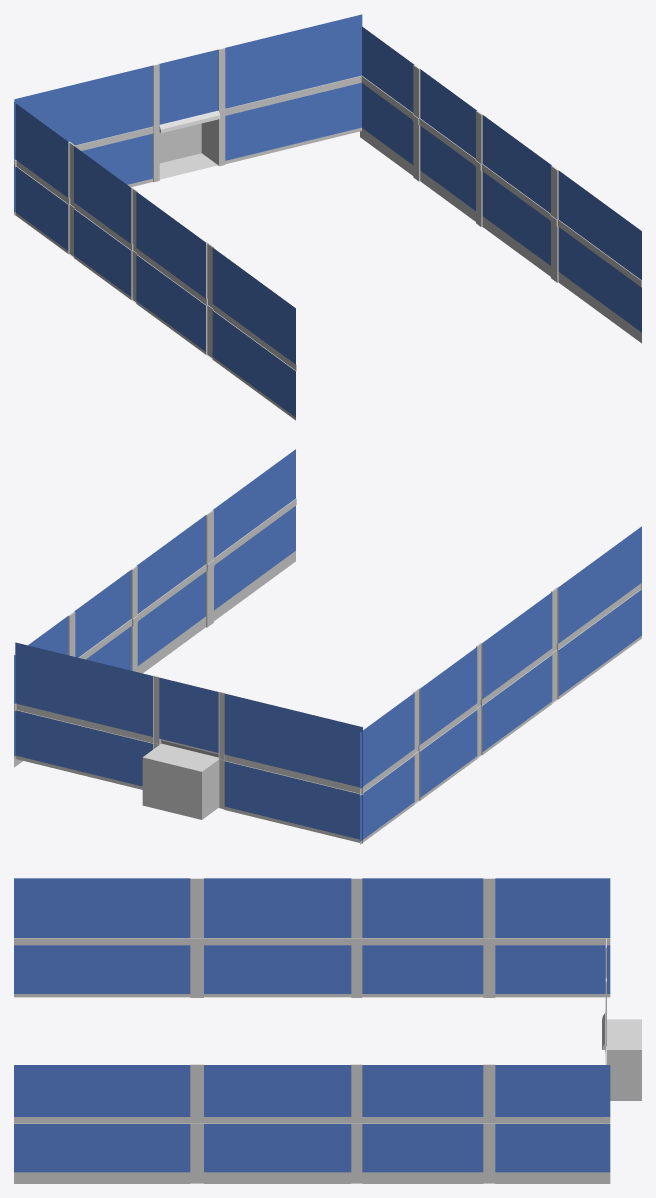
The model's file is Garagem.fbx.
The picture shows the model from 3 angles, top to bottom: view 1: azimuth 30°, elevation 25°; view 2: azimuth 150°, elevation 25°; view 3: azimuth 270°, elevation 25°; orthographic projection. The views are drawn at different scales.
Visible parts, largest first — view 1: Plane.001, Plane.002, Plane.003; view 2: Plane.001, Plane.002, Plane.003; view 3: Plane.002, Plane.003, Plane.001.
Boxes of the visible parts, x1=… form: Plane.001: x1=14, y1=14, x2=362, y2=215; Plane.002: x1=14, y1=102, x2=296, y2=420; Plane.003: x1=360, y1=26, x2=641, y2=343; Plane.001: x1=15, y1=642, x2=363, y2=843; Plane.002: x1=359, y1=526, x2=641, y2=844; Plane.003: x1=14, y1=449, x2=296, y2=767; Plane.002: x1=14, y1=878, x2=610, y2=997; Plane.003: x1=14, y1=1064, x2=610, y2=1183; Plane.001: x1=602, y1=938, x2=641, y2=1124.
Bounding box in the file's own units: 4358 × 1485 × 6439.
